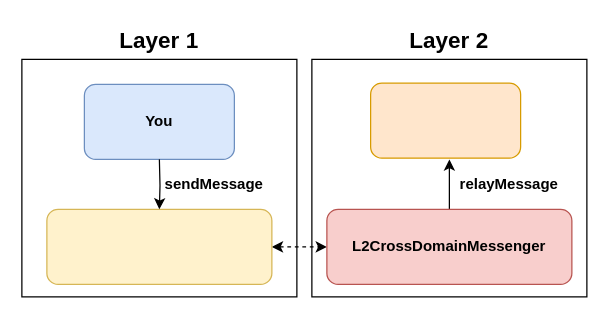
The diagram is 609 pixels wide and 319 high, and some of its shapes have lost their labels. The shapes that lost their labels are listed below. From the top down, each one's centre as x and y in pixels, then its label:
At [445,120]: "UpperChamber".
At [159,246]: "L1CrossDomainMessenger".
